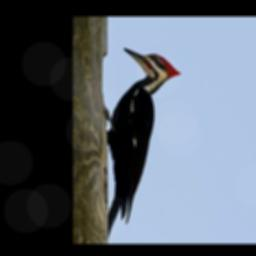Woodpecker: (104, 45, 183, 223)
